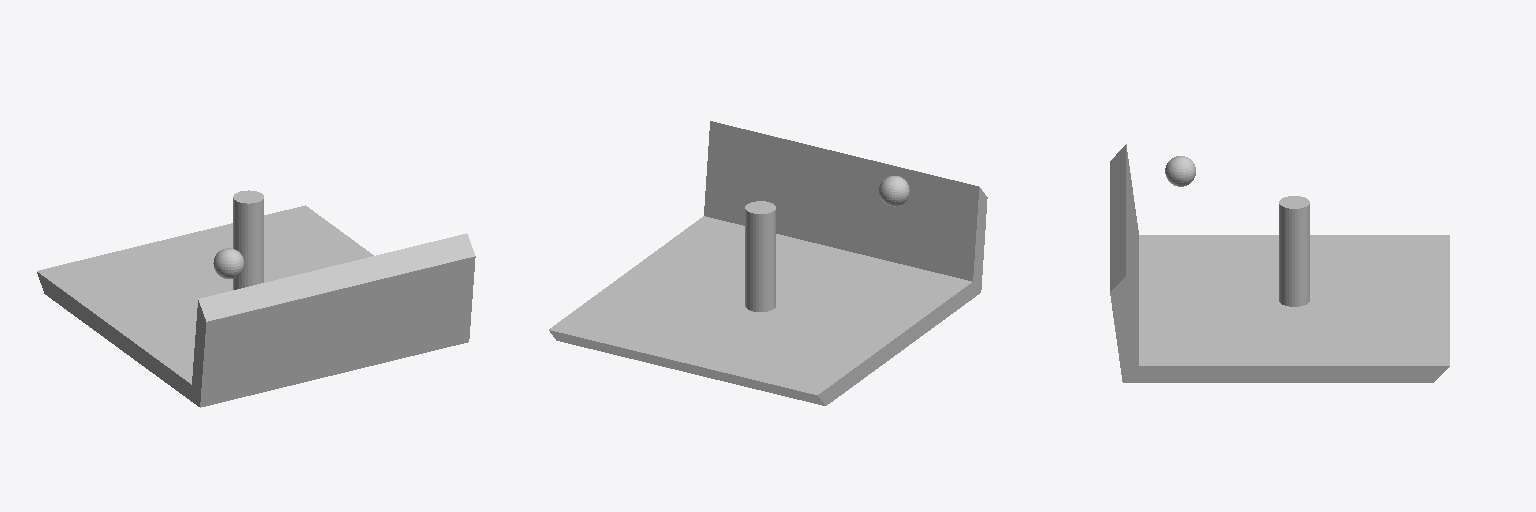
Rendered from room_thickwalls.obj.
The picture shows the model from 3 angles: view 1: azimuth 30°, elevation 25°; view 2: azimuth 150°, elevation 25°; view 3: azimuth 270°, elevation 25°; orthographic projection.
Visible parts, largest first — view 1: Plane; view 2: Plane; view 3: Plane.
Boxes of the visible parts, box(x1,y1,x2,y2) form: Plane: box(37, 190, 475, 407); Plane: box(549, 121, 987, 405); Plane: box(1110, 144, 1449, 382).
Bounding box in the file's own units: 20 × 8.71 × 21.87.